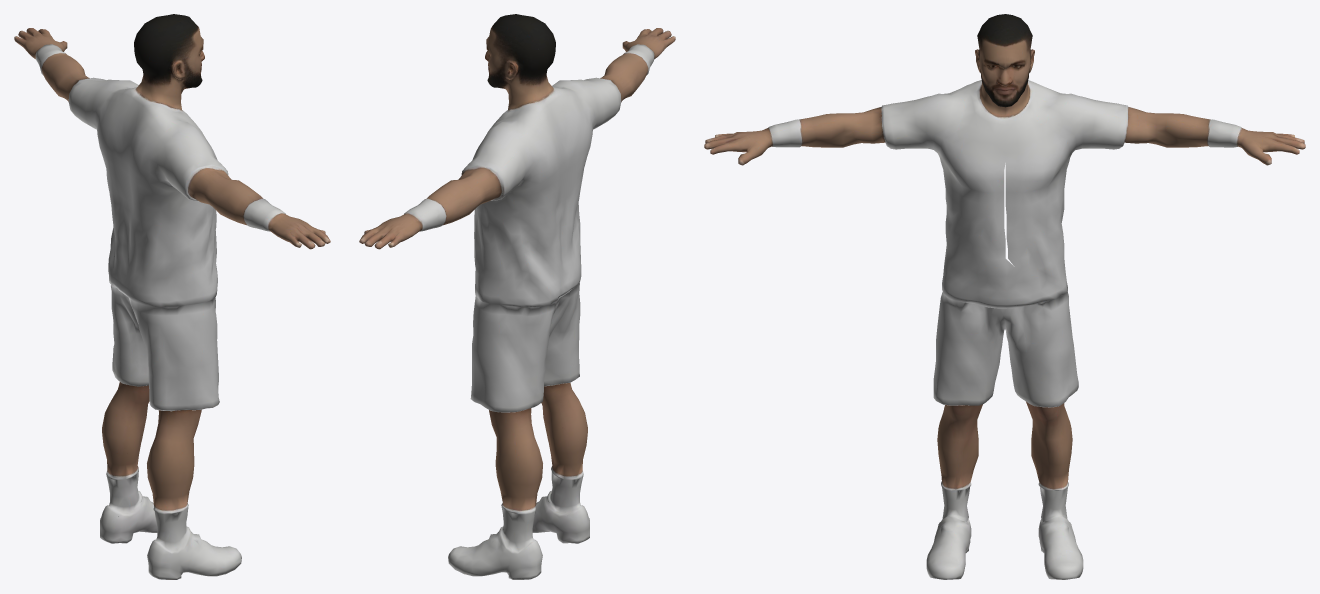
The model's file is spieler_d.glb.
3 renders of one model, left to right at view 1: azimuth 30°, elevation 25°; view 2: azimuth 150°, elevation 25°; view 3: azimuth 270°, elevation 25°, orthographic. The views are drawn at different scales.
Visible parts, largest first — view 1: spieler; view 2: spieler; view 3: spieler.
Part boxes in pixels (x1,y1,x2,y2): spieler: [14, 14, 330, 579]; spieler: [359, 14, 675, 579]; spieler: [704, 14, 1305, 579].
Size of the model in its own units: 0.1816 by 0.998 by 0.998.
1 material, 1 textured.
